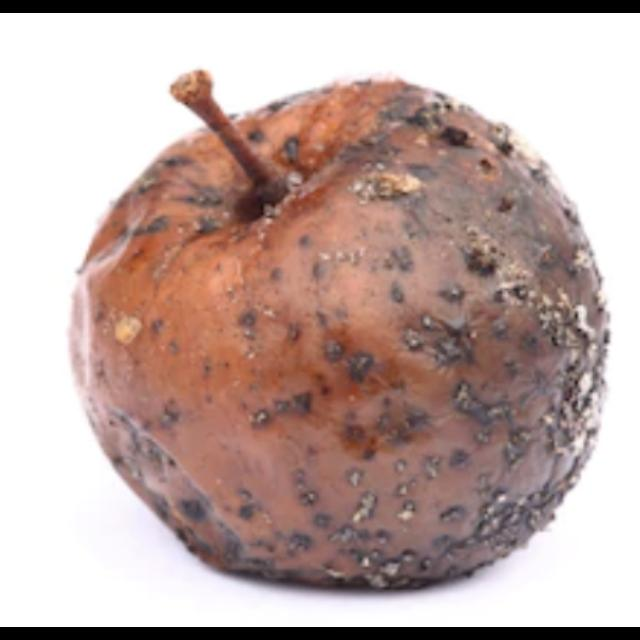Apel Tidak Segar: (75, 81, 612, 591)
